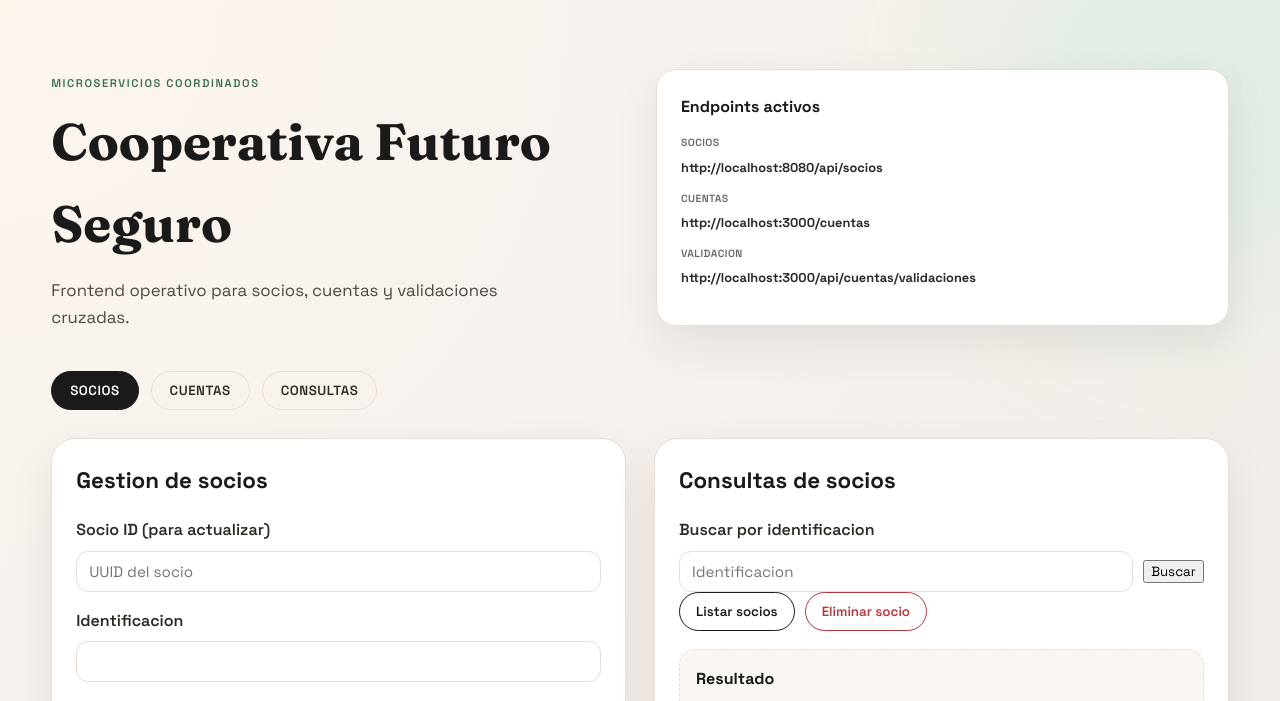
Test: Integracion UI - Frontend › Muestra error al validar sin socio ID
Step 1. Click the button with test id "consultas" → (320, 391), box [262,371,378,410]
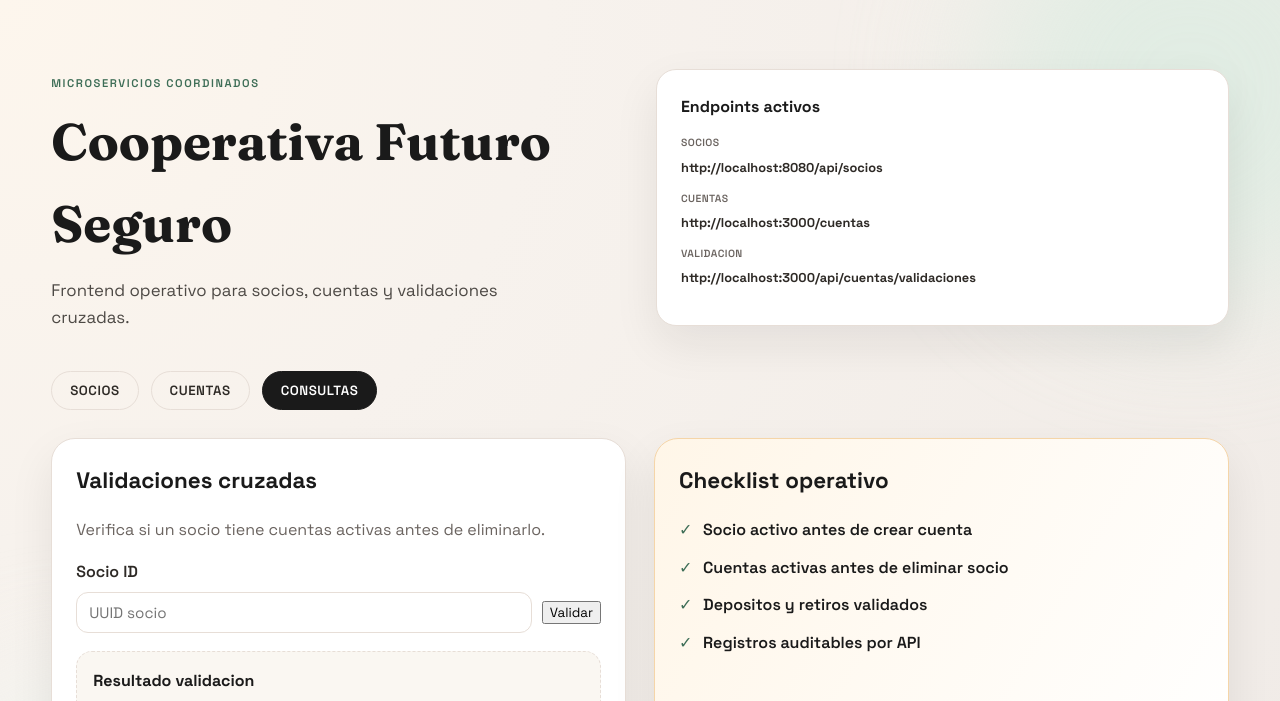
expect the button with test id "consultas" has class "active": met, box [262,371,378,410]
Step 2. Click the button with test id "consulta-validar" → (572, 613), box [542,601,601,624]
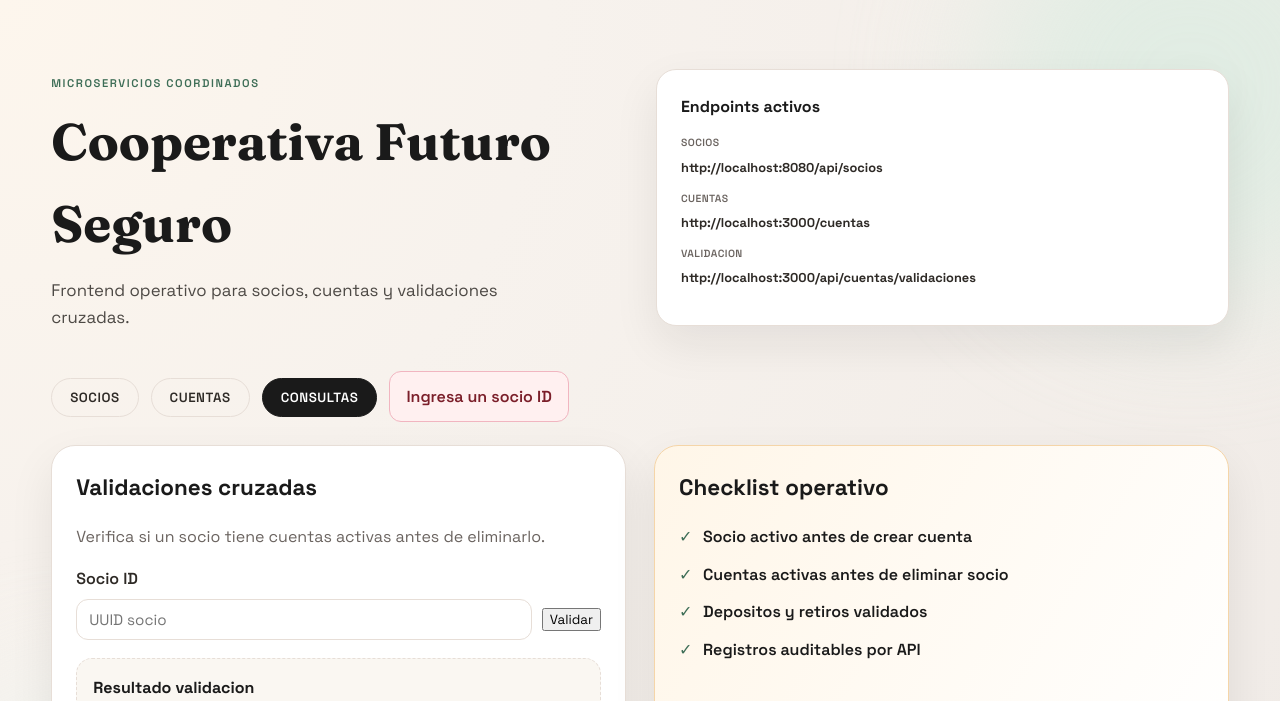
expect the text with test id "status" shows "socio ID": met, box [389,371,568,423]
